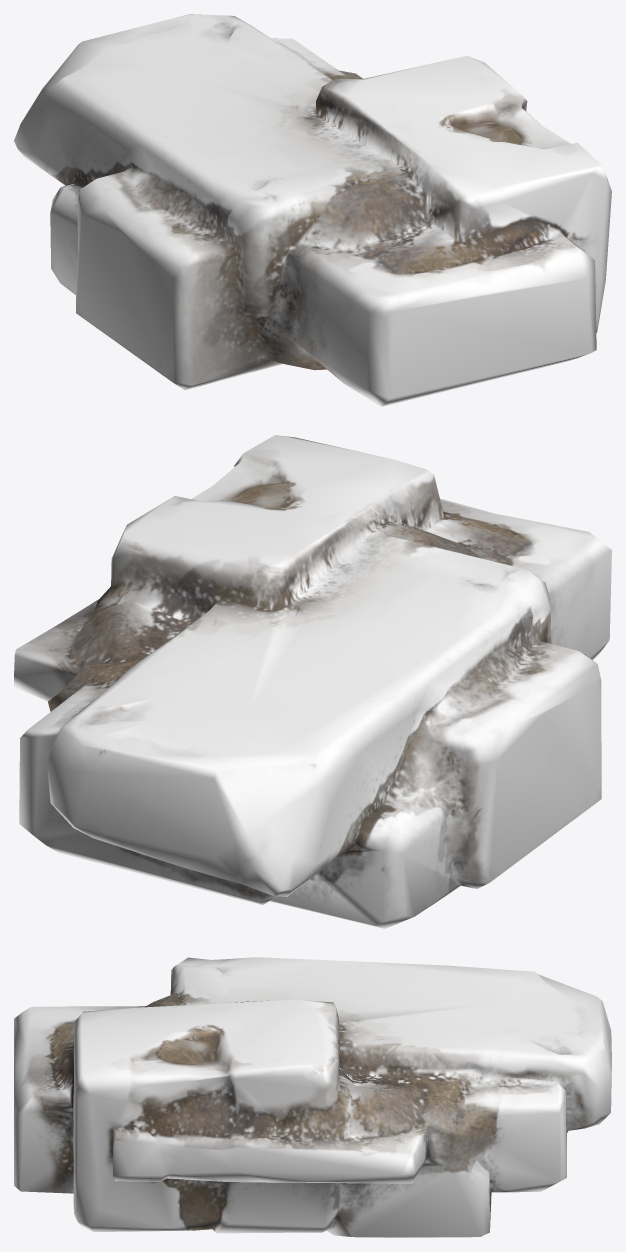
File: SM_MetalNode_4b.fbx
3 views of the same model, one above another, from view 1: azimuth 30°, elevation 25°; view 2: azimuth 150°, elevation 25°; view 3: azimuth 270°, elevation 25° (orthographic). The views are drawn at different scales.
Parts seen in each view (by area): view 1: SM_MetalNode_4b_LOD0; view 2: SM_MetalNode_4b_LOD0; view 3: SM_MetalNode_4b_LOD0.
Part boxes in pixels (x1,y1,x2,y2): SM_MetalNode_4b_LOD0: (14,14,611,406); SM_MetalNode_4b_LOD0: (14,435,611,928); SM_MetalNode_4b_LOD0: (14,957,611,1237).
Size of what is drawn, in the model's own units: 0.8493 by 0.431 by 1.2.
